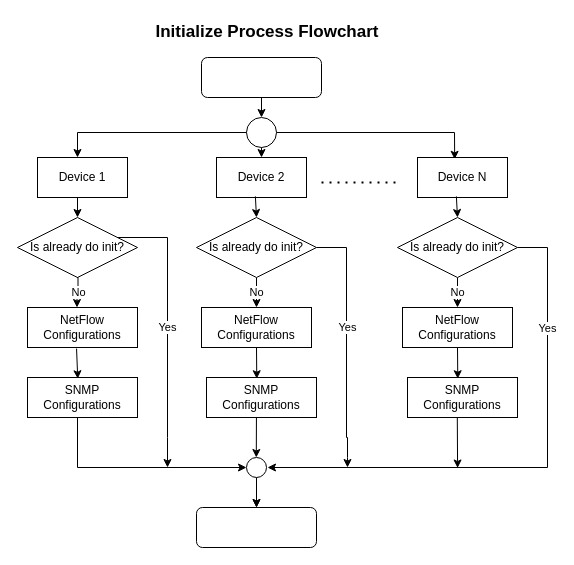
The diagram is 574 pixels wide and 565 high, and some of its shapes have lost their labels. Each missing label, with the centre of its shape:
"End" goes at point (256, 527).
"Start" goes at point (261, 77).
